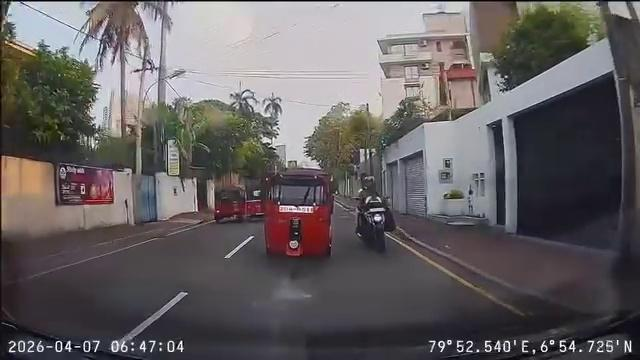illegal overtaking: (349, 171, 401, 256)
